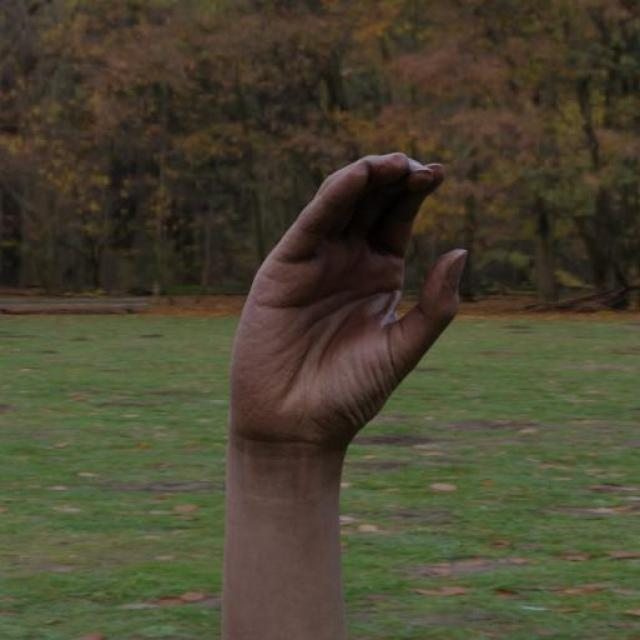C: (213, 140, 473, 490)
